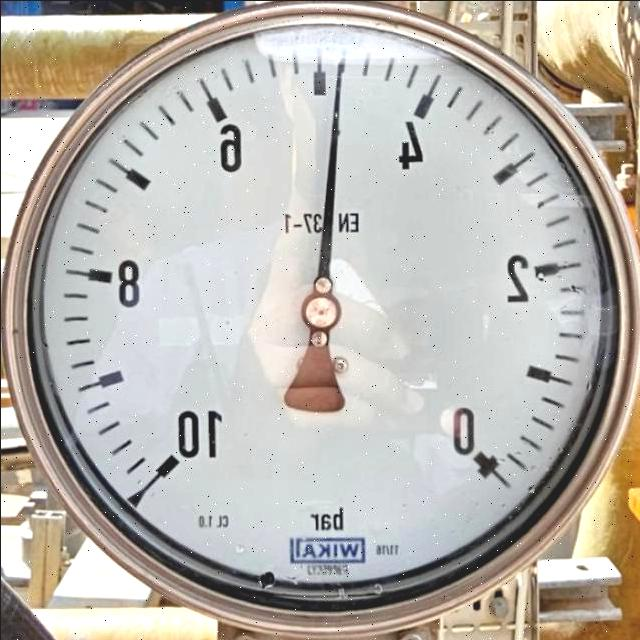Needle_Tip: (305, 40, 376, 107)
Needle_base: (292, 283, 354, 346)
max_value: (147, 404, 239, 463)
min_value: (426, 399, 500, 469)
